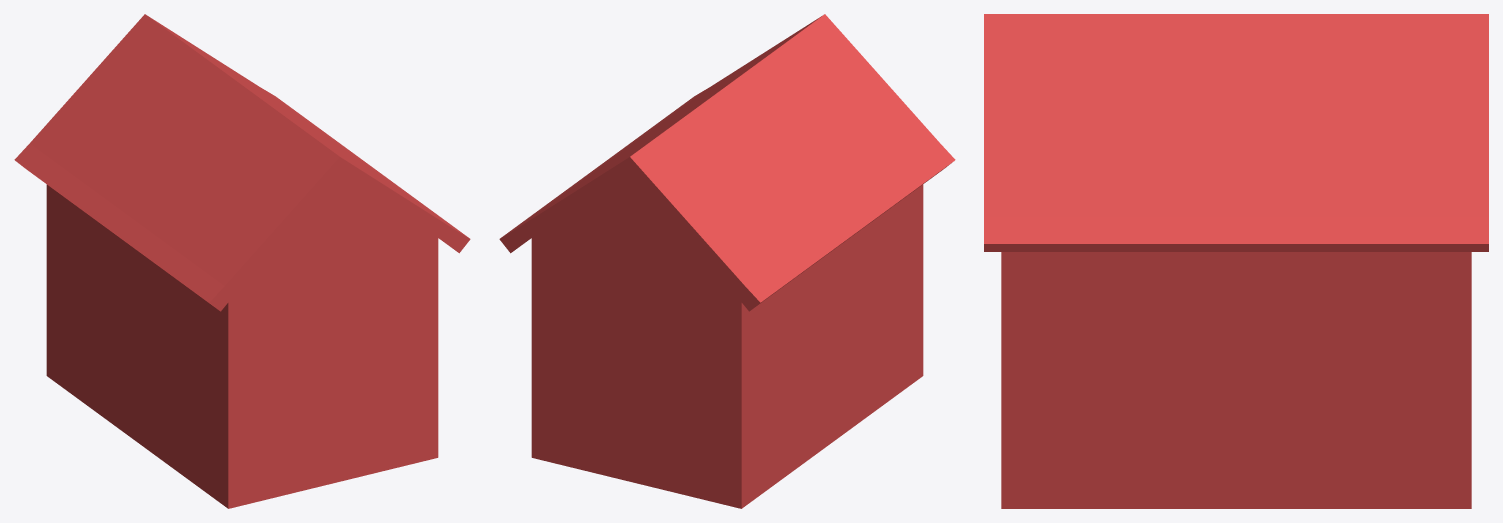
The model's file is TempHouse.fbx.
The picture shows the model from 3 angles, left to right: view 1: azimuth 30°, elevation 25°; view 2: azimuth 150°, elevation 25°; view 3: azimuth 270°, elevation 25°; orthographic projection. The views are drawn at different scales.
Parts seen in each view (by area): view 1: Cube; view 2: Cube; view 3: Cube.
Boxes of the visible parts, <box> form: Cube: <box>14,14,470,508</box>; Cube: <box>499,14,955,508</box>; Cube: <box>984,14,1488,508</box>.
Size of the model in its own units: 498 by 603 by 644.
